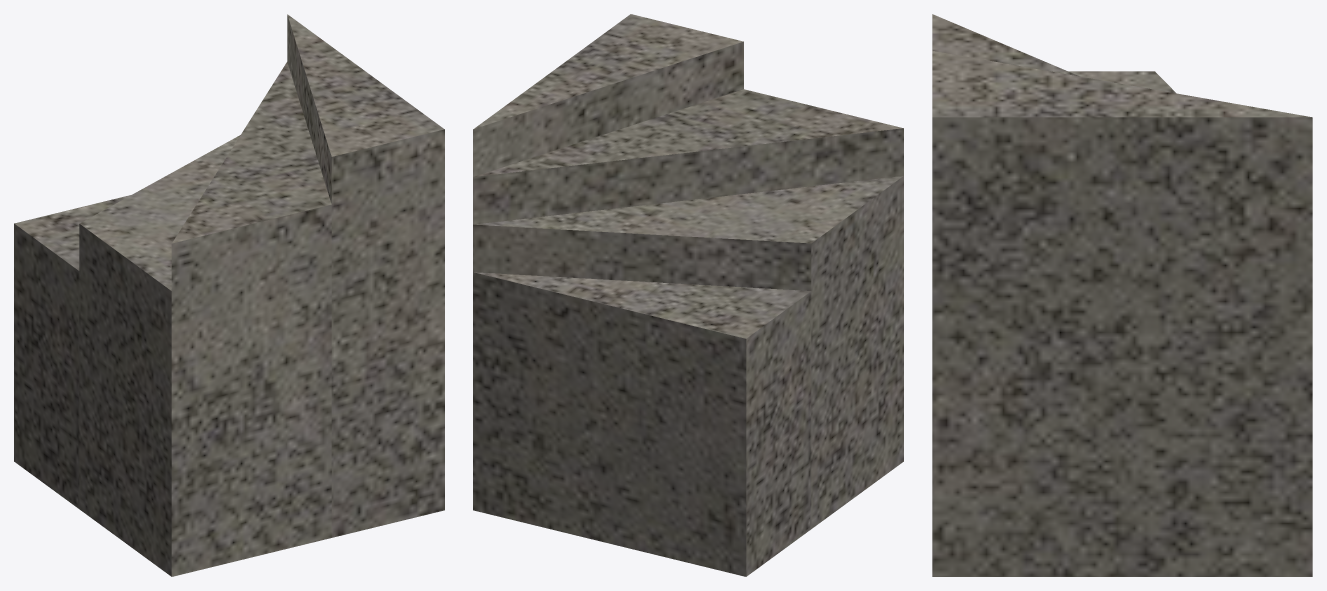
The model's file is H_SpiralStairsR1mB.obj.
3 views of the same model, side by side, from view 1: azimuth 30°, elevation 25°; view 2: azimuth 150°, elevation 25°; view 3: azimuth 270°, elevation 25° (orthographic). The views are drawn at different scales.
Bounding box in the file's own units: 1 × 1.33 × 1.
Materials: 1 (1 with a texture image).
